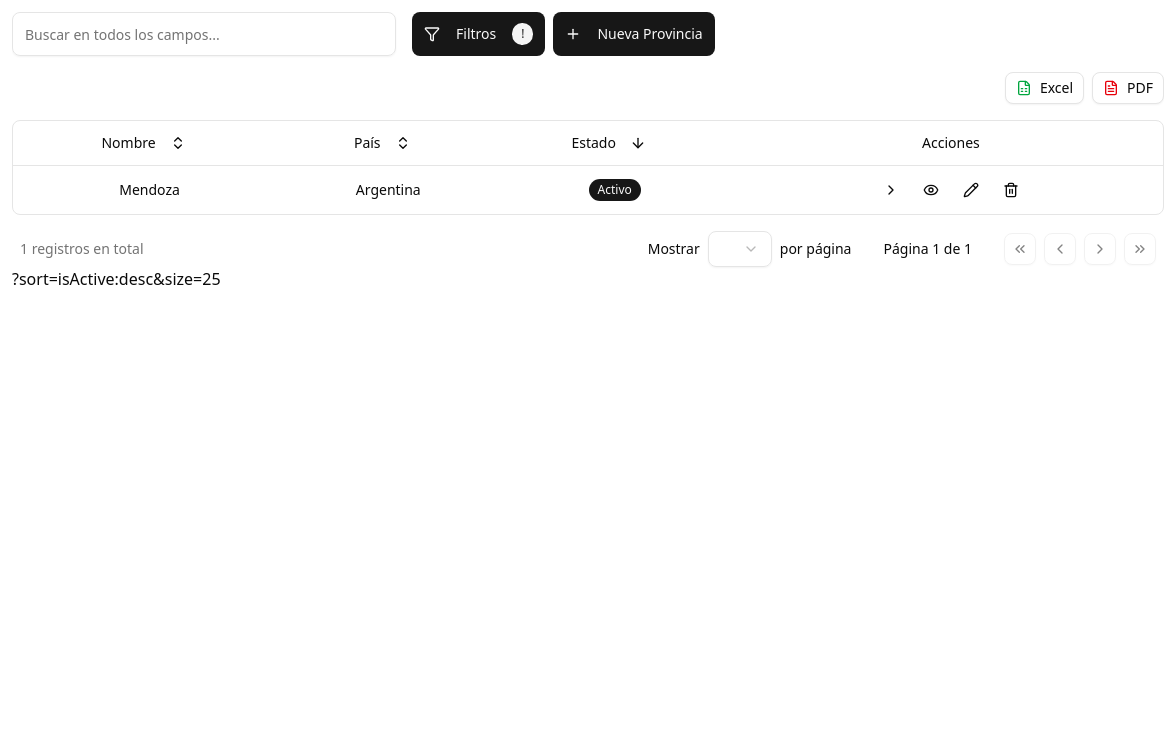
Scenario: StatesTable sorting › keeps desktop headers, controls, URL and query on one canonical sort
Step 1. Click the button "Filtros !" → (479, 34), box [412,12,546,56]
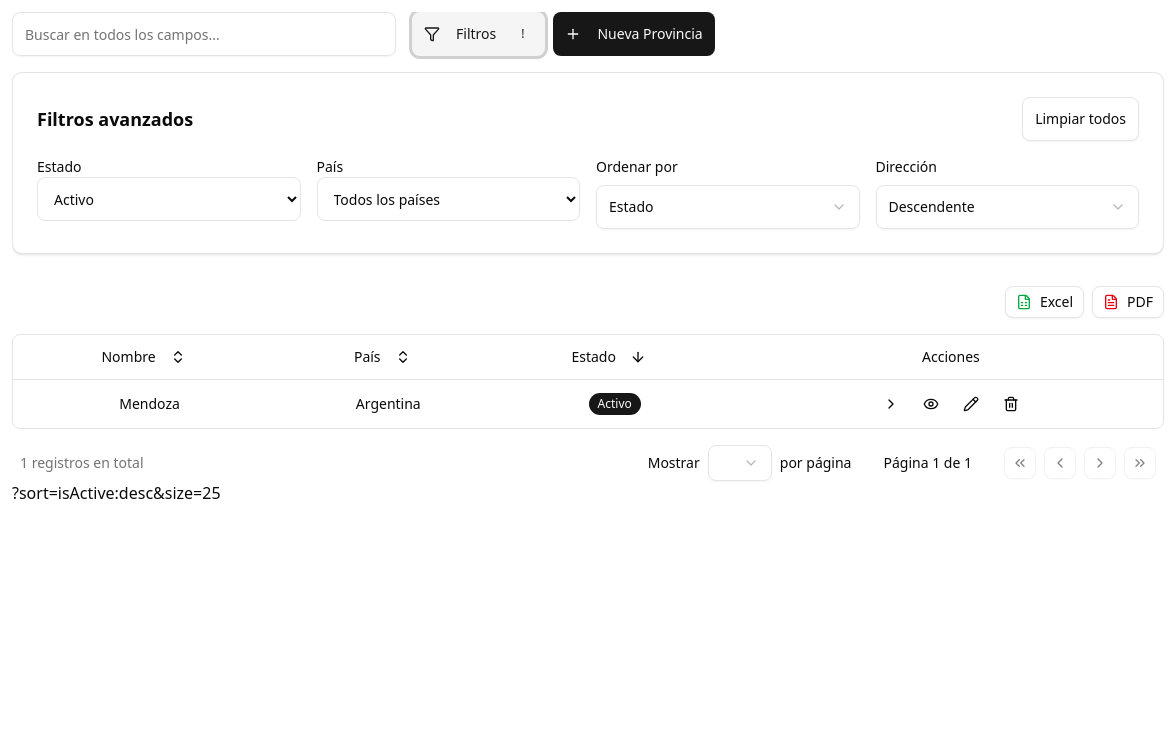
Expected: the dropdown named "Ordenar por" reads "Estado", [596,185,860,229]
Expected: the dropdown named "Dirección" reads "Descendente", [876,185,1139,229]
Step 2. Click the button "País" → (382, 357), box [344,335,421,379]
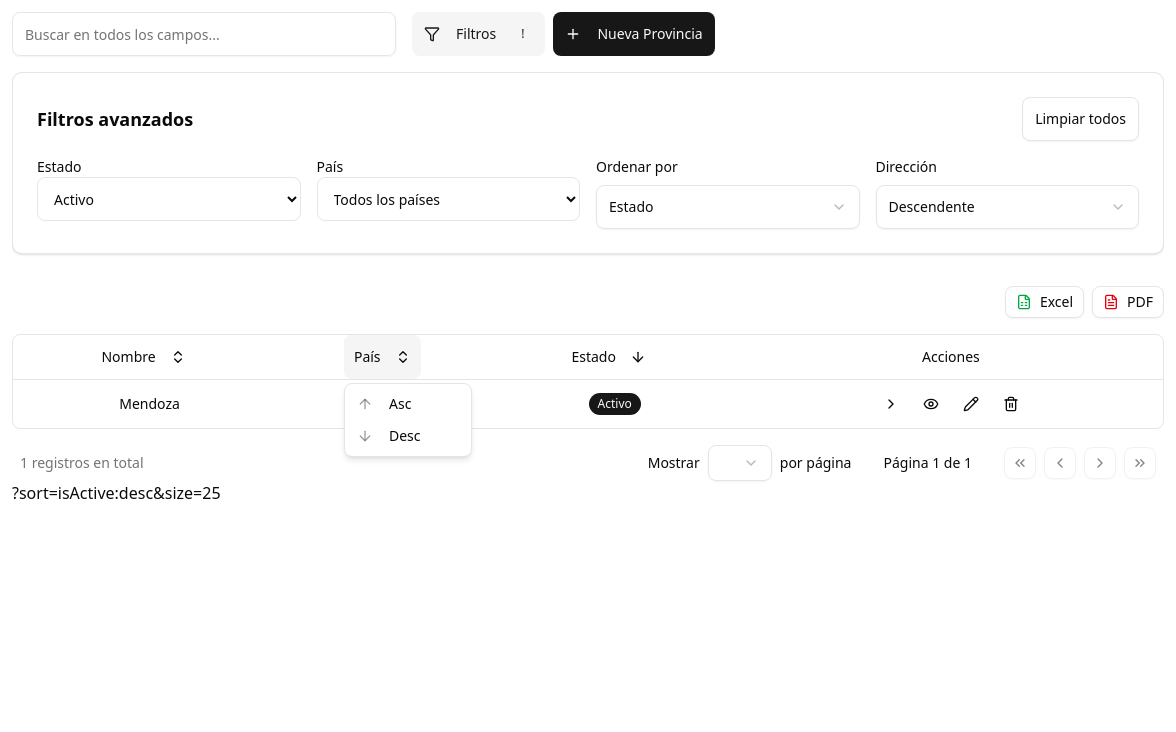
Step 3. Click the menu item "Asc" → (365, 404), box [357,394,411,413]
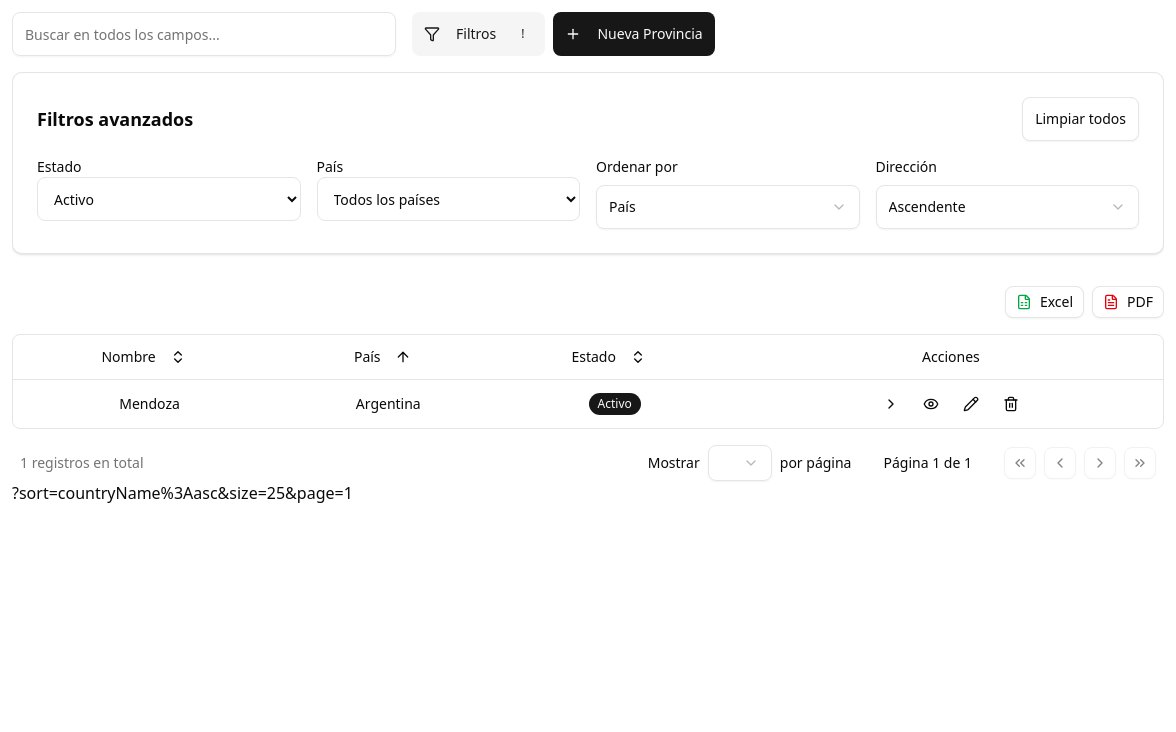
Expected: the text with test id "search" shows "sort=countryName%3Aasc&size=25&page=1", [12,482,353,504]
